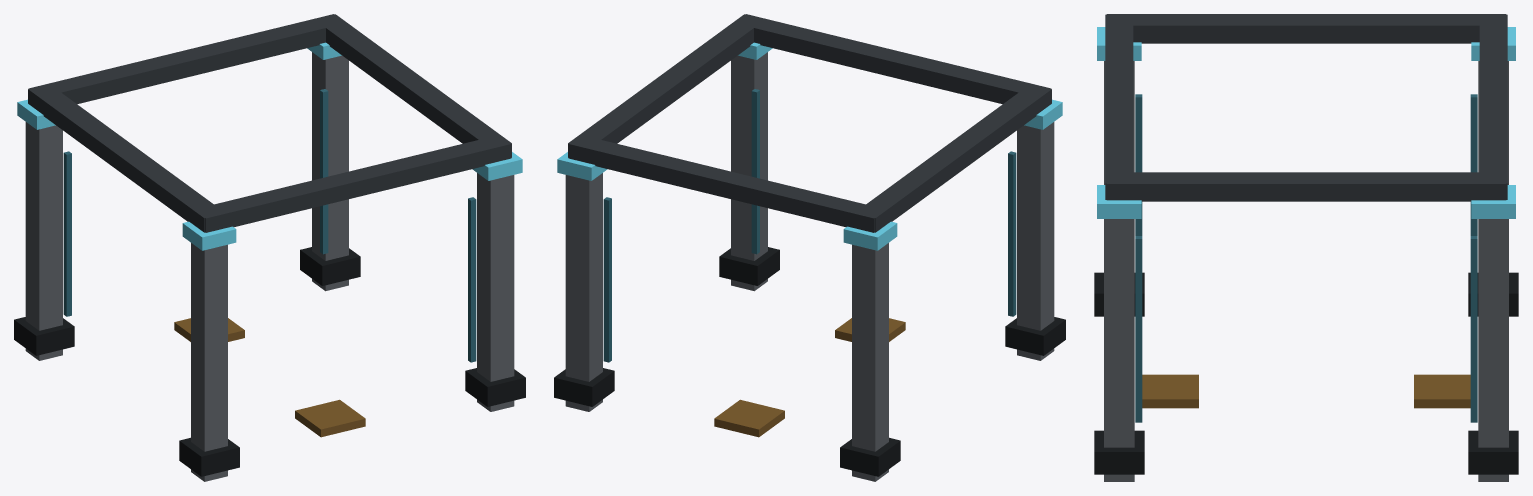
Rendered from teleporter.obj.
3 views of the same model, side by side, from view 1: azimuth 30°, elevation 25°; view 2: azimuth 150°, elevation 25°; view 3: azimuth 270°, elevation 25° (orthographic). The views are drawn at different scales.
Parts seen in each view (by area): view 1: device_teleporter; view 2: device_teleporter; view 3: device_teleporter.
Part boxes in pixels (<box>): device_teleporter: <box>14,14,525,481</box>; device_teleporter: <box>554,14,1065,481</box>; device_teleporter: <box>1094,14,1518,481</box>.
Size of the model in its own units: 3.04 by 2.35 by 3.04.
